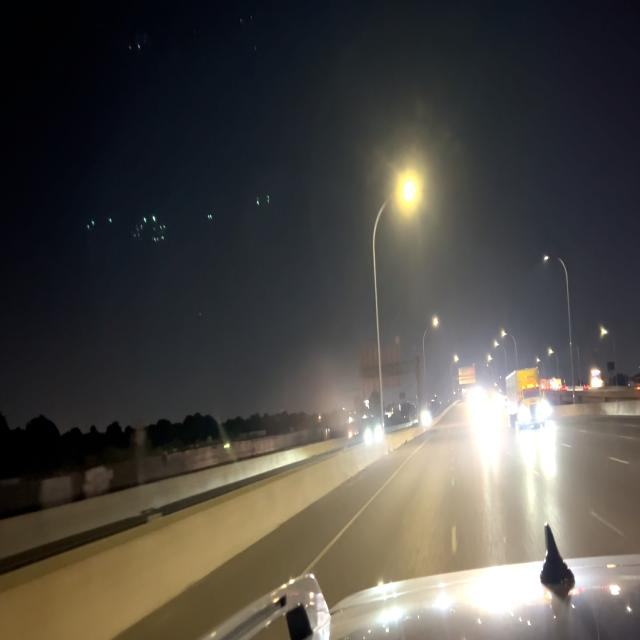back-of-sign: (357, 335, 404, 392), (459, 363, 477, 386)
